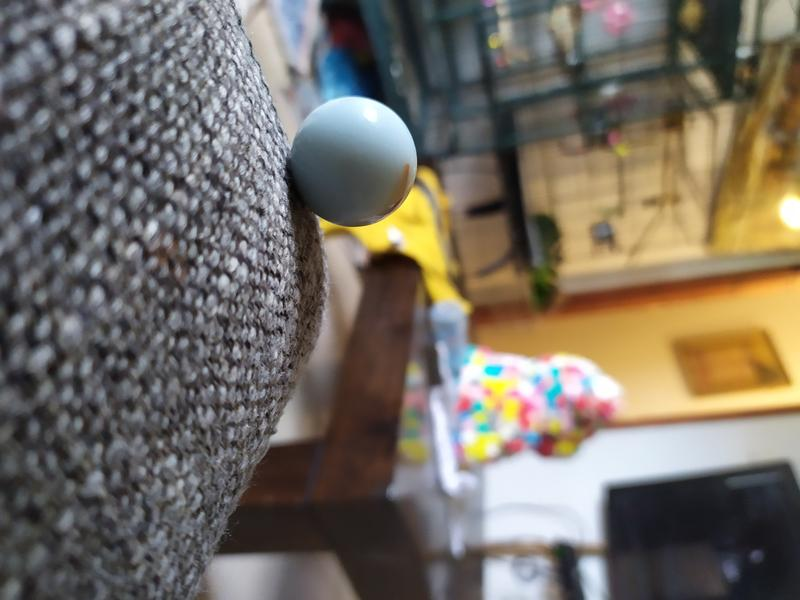Warning: (284, 92, 422, 229)
